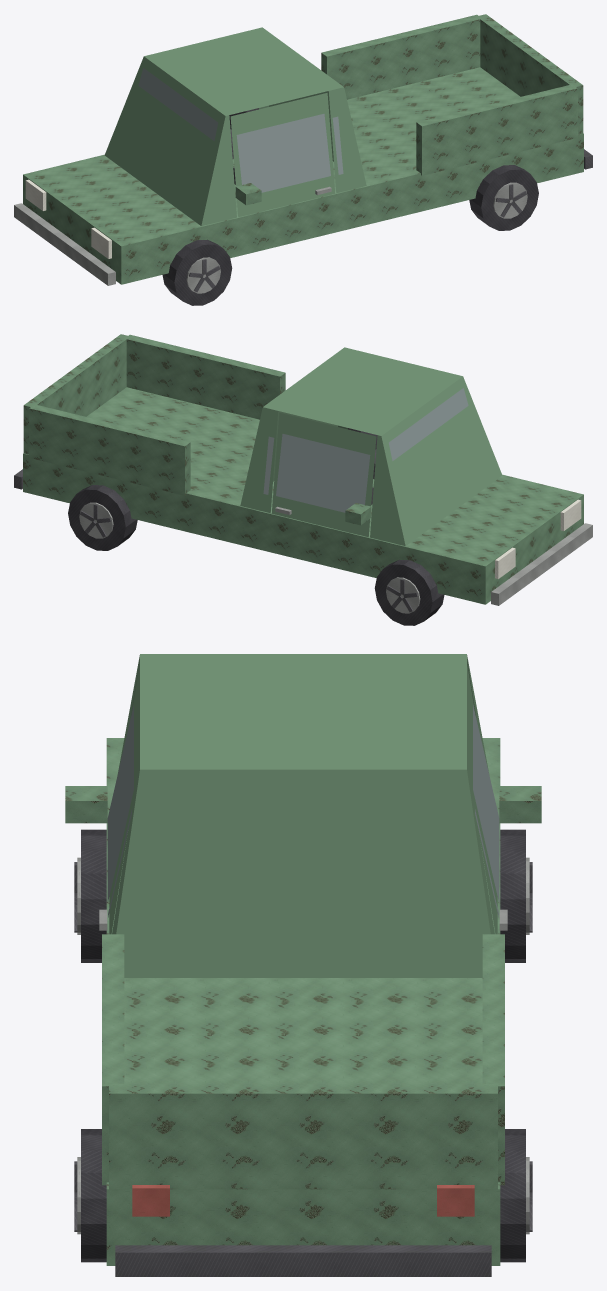
Rendered from vehicle_work_pickup.glb.
3 renders of one model, top to bottom at view 1: azimuth 30°, elevation 25°; view 2: azimuth 150°, elevation 25°; view 3: azimuth 270°, elevation 25°, orthographic. The views are drawn at different scales.
Parts seen in each view (by area): view 1: body_panel.004, door_mirror.009, hub.017, hub.019; view 2: body_panel.004, door_mirror.008, hub.016, hub.018; view 3: body_panel.004, door_mirror.008, door_mirror.009, hub.016, hub.017, hub.018, hub.019.
Part boxes in pixels (bbox=[...]): body_panel.004: bbox=[14, 14, 592, 285]; door_mirror.009: bbox=[230, 93, 335, 217]; hub.017: bbox=[162, 239, 232, 305]; hub.019: bbox=[469, 165, 538, 230]; body_panel.004: bbox=[14, 334, 592, 605]; door_mirror.008: bbox=[271, 413, 376, 537]; hub.016: bbox=[374, 559, 444, 625]; hub.018: bbox=[68, 485, 137, 550]; body_panel.004: bbox=[102, 654, 504, 1276]; door_mirror.008: bbox=[467, 663, 541, 934]; door_mirror.009: bbox=[65, 663, 139, 934]; hub.016: bbox=[500, 829, 532, 962]; hub.017: bbox=[74, 829, 106, 962]; hub.018: bbox=[500, 1129, 532, 1262]; hub.019: bbox=[74, 1129, 106, 1262].
Bounding box in the file's own units: 5.03 × 1.68 × 2.14.
7 materials, 7 textured.
